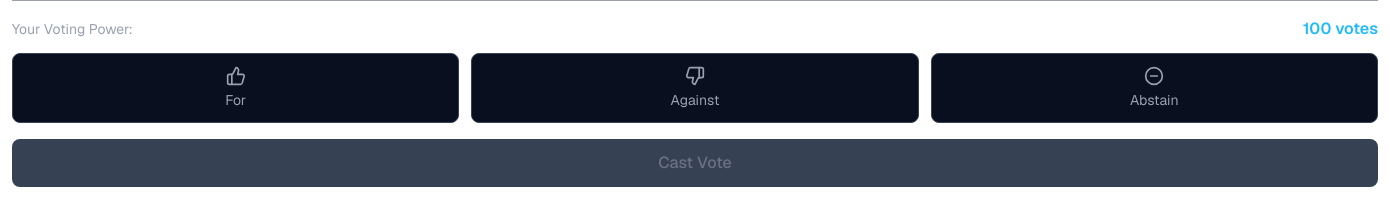
Test: VotingInterface › allows selecting vote options
Click the button "For" at (236, 88), box [12,53,459,123]
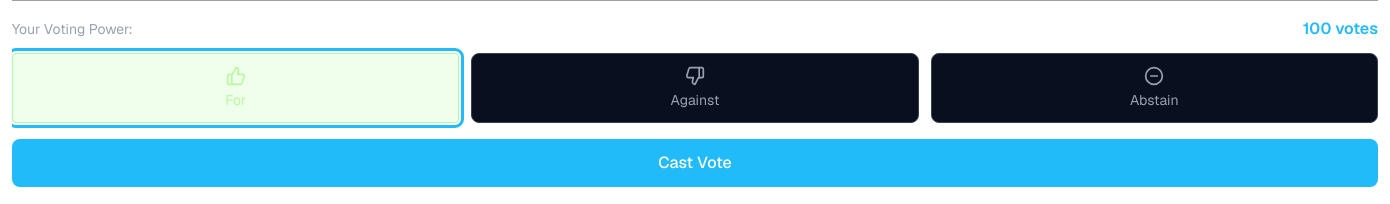
Now the button "Cast Vote" is enabled, box [12,139,1378,187]
